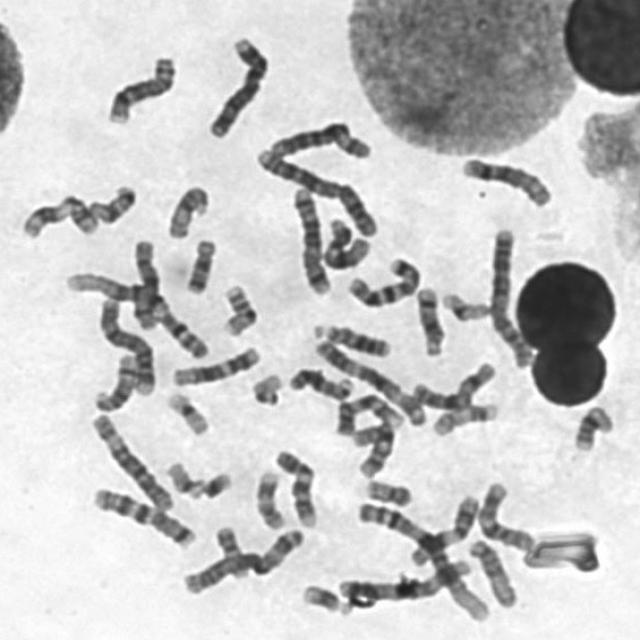A1: (348, 494, 492, 624), (59, 268, 212, 360)
A2: (249, 142, 381, 240), (484, 221, 537, 369)
A3: (308, 334, 429, 429), (177, 523, 307, 597)
B4: (202, 31, 272, 140), (94, 293, 157, 397)
B5: (331, 559, 479, 607), (286, 180, 334, 297)
C10: (472, 476, 540, 554), (348, 416, 398, 479)
C11: (404, 489, 484, 569), (16, 189, 101, 241)
C12: (166, 341, 264, 387), (318, 211, 373, 271)
C6: (85, 407, 176, 514), (263, 114, 375, 162)
C7: (86, 482, 198, 550), (341, 250, 424, 310)
C8: (101, 50, 179, 126), (455, 151, 555, 209)
C9: (270, 443, 320, 530), (328, 388, 409, 438)
D13: (308, 318, 393, 360), (283, 362, 356, 402)
D14: (88, 348, 140, 414), (411, 281, 449, 358)
D15: (462, 533, 520, 610), (161, 179, 212, 241)
E16: (217, 278, 260, 338), (569, 402, 616, 454)
E17: (427, 397, 502, 439), (249, 464, 289, 531)
E18: (83, 179, 139, 226), (179, 232, 219, 296)
F19: (161, 385, 212, 438), (437, 286, 493, 323)
F20: (210, 521, 252, 581), (359, 474, 415, 508)
G21: (297, 578, 351, 618), (192, 466, 235, 502)
G22: (161, 455, 206, 501), (246, 367, 285, 408)
X: (118, 233, 174, 340), (406, 356, 499, 414)
